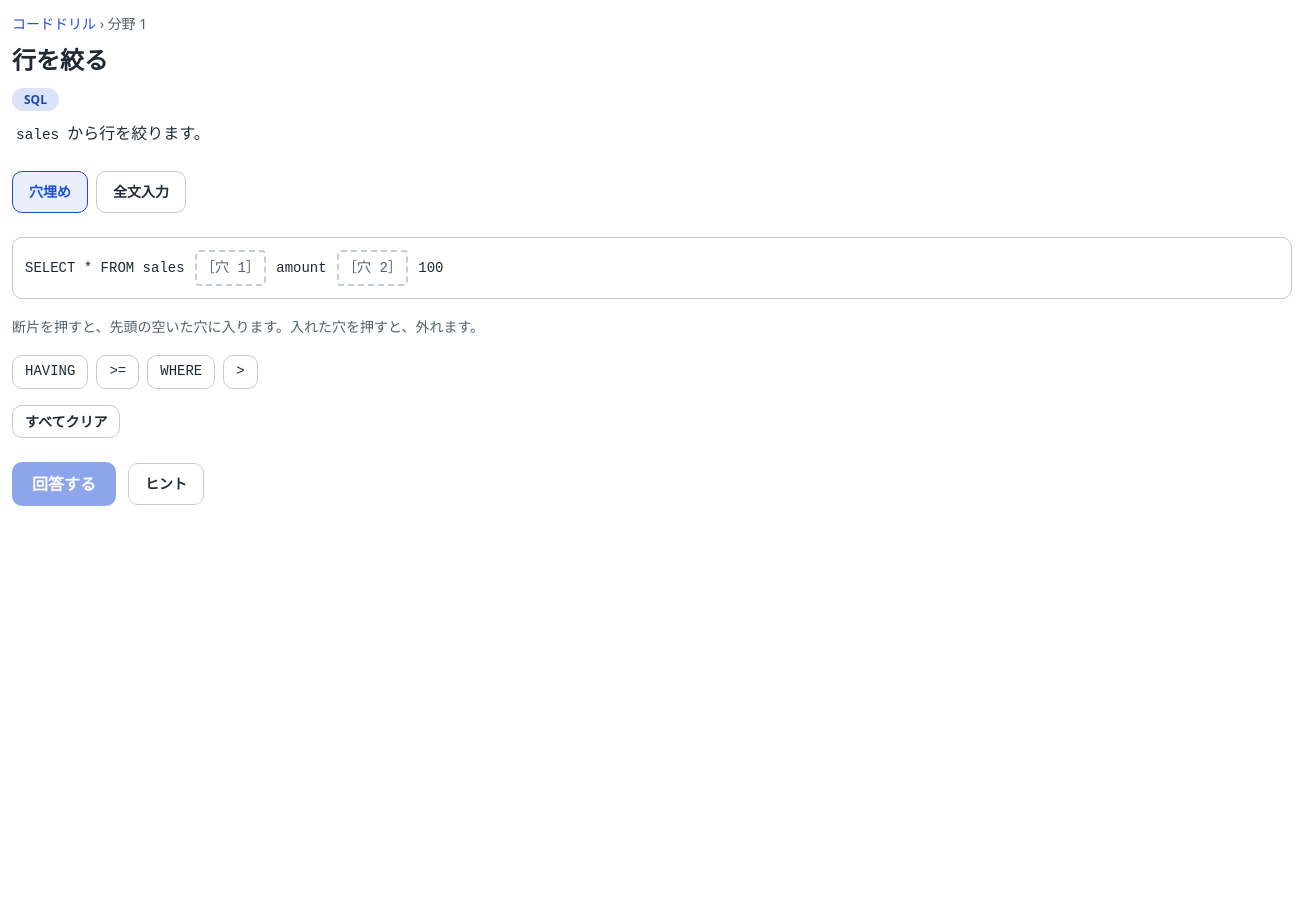
Scenario: CodeDrillPlayer(全文入力) › 一致しない_入力したコードの結果は断定せず_正解のコードと比べるよう伝える
This screenshot has width=1304, height=912.
Click the tab "全文入力" at x=141, y=192, box [96, 171, 186, 213]
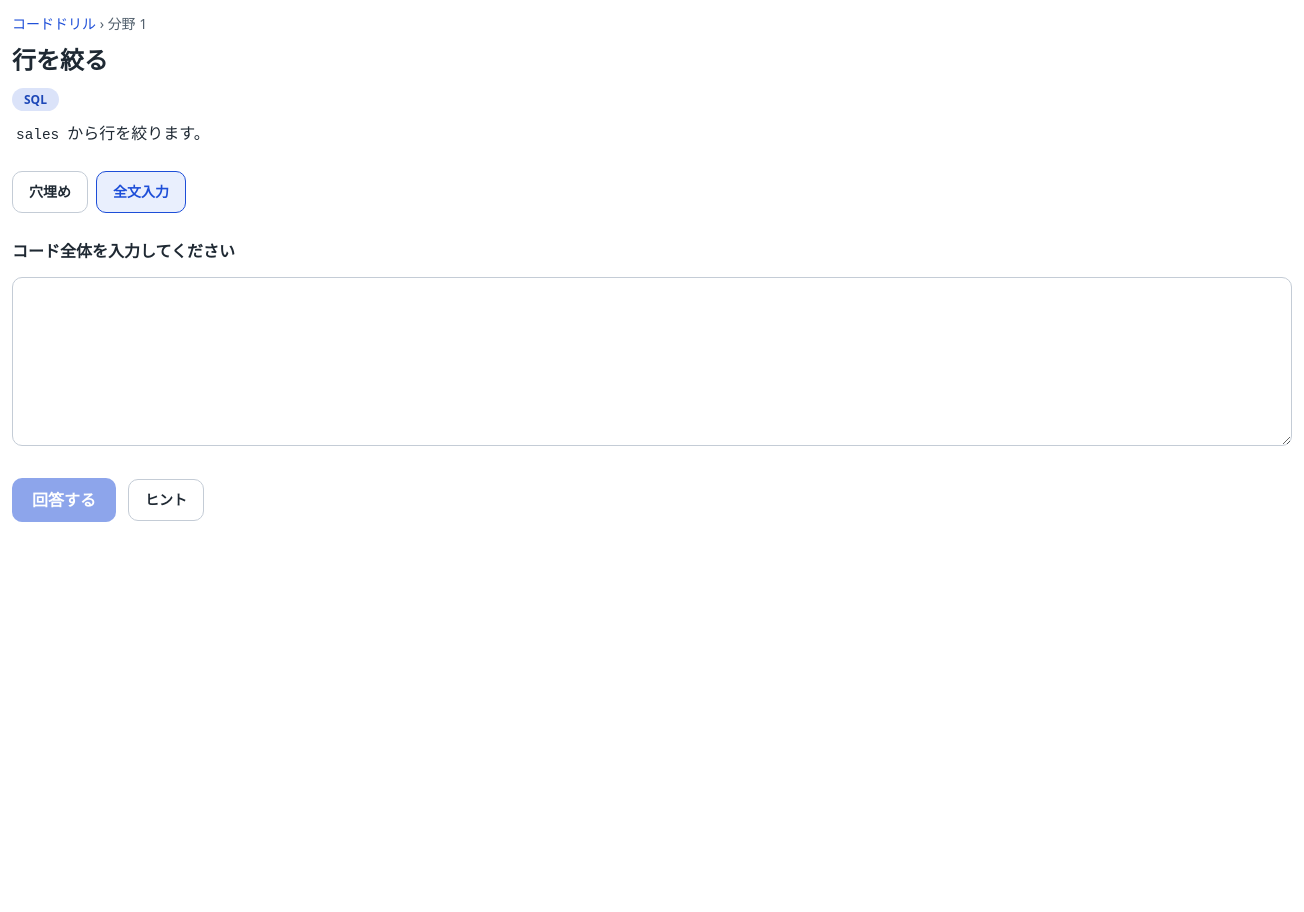
Type "SELECT 1" into the text box labelled "コード全体を入力してください" at x=652, y=361, box [12, 277, 1292, 446]
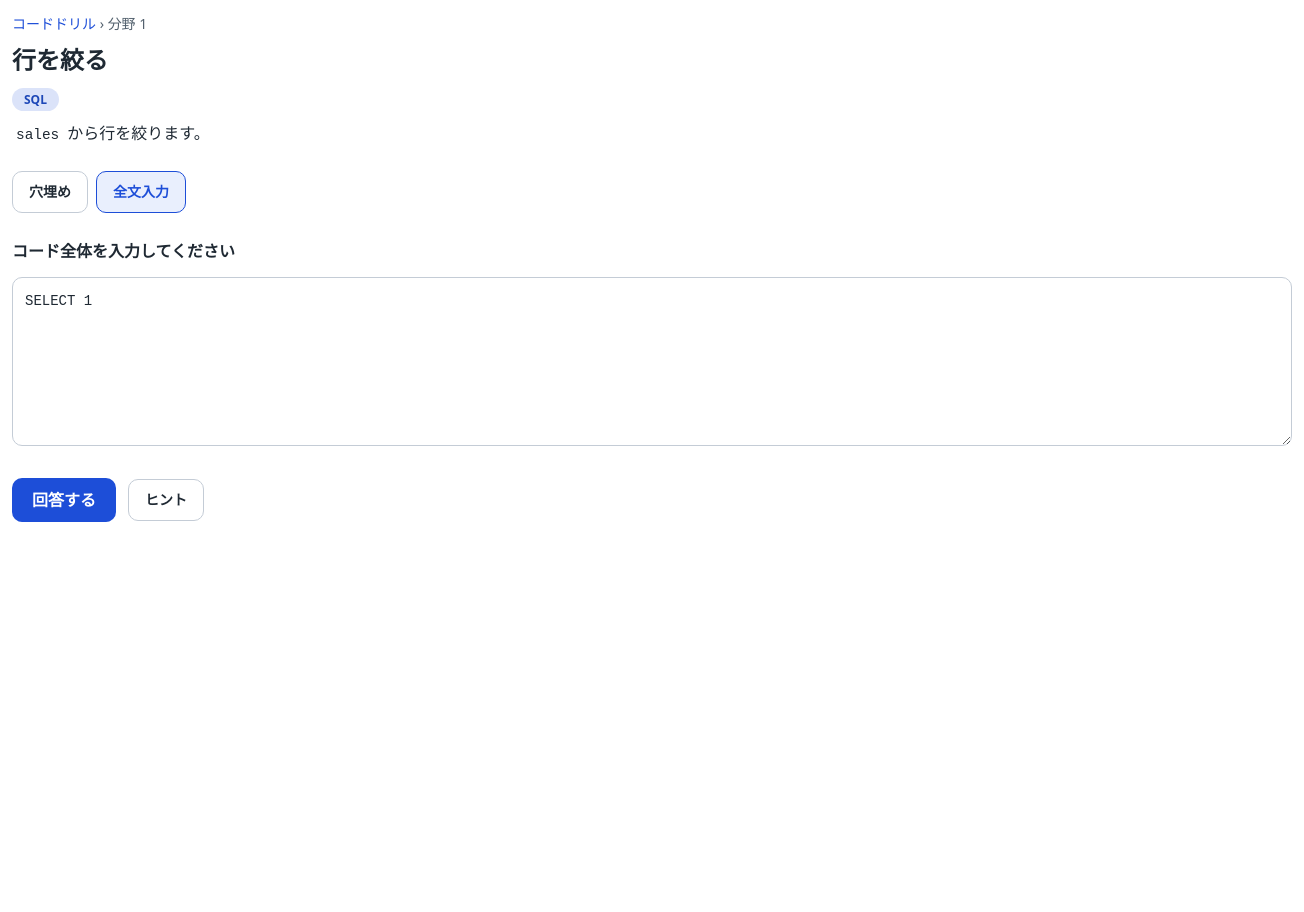
Click the button "回答する" at x=64, y=500, box [12, 478, 116, 522]
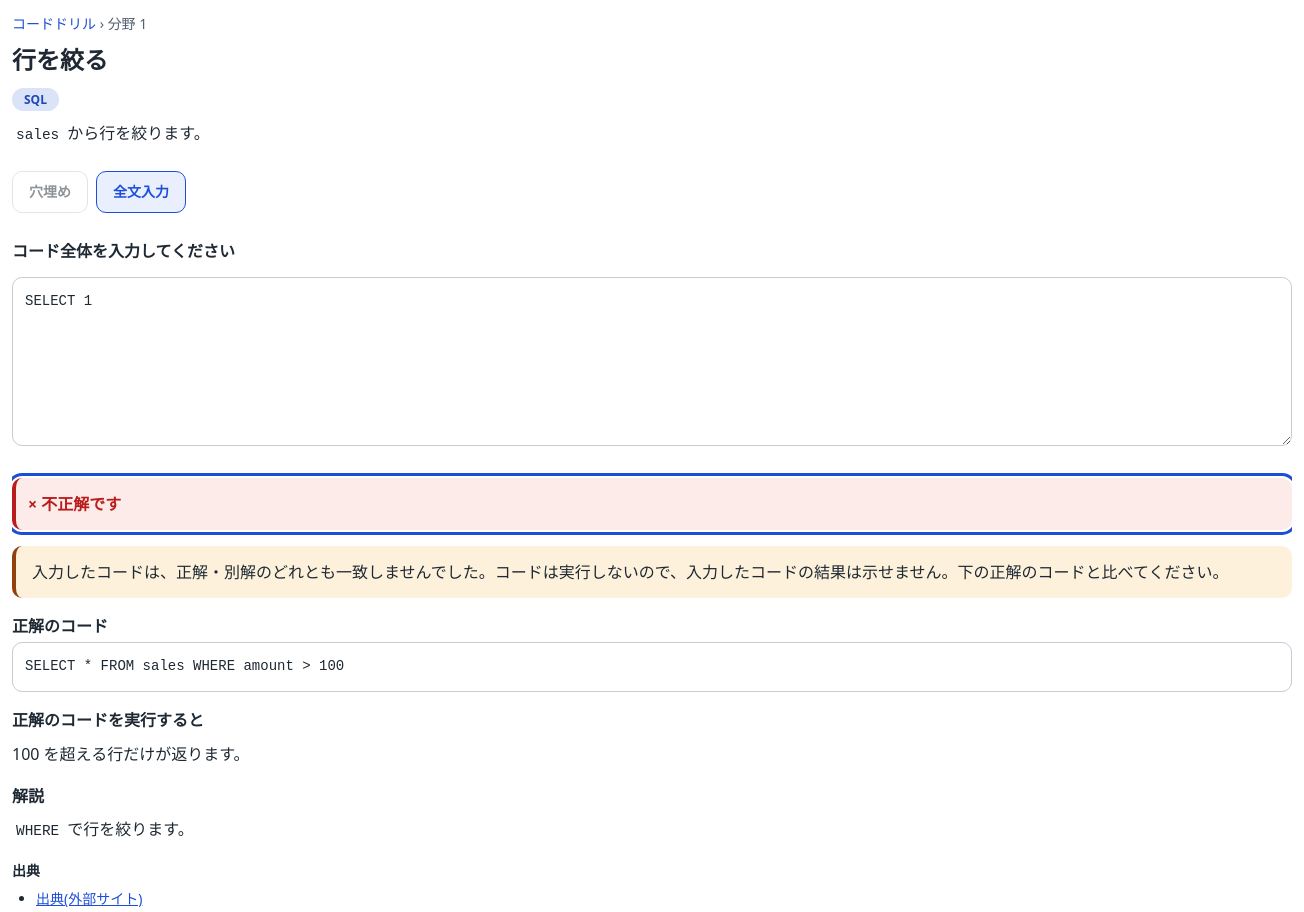
Expected: the message reads "× 不正解です", [28, 493, 121, 515]
Expected: the text "入力したコードの結果は示せません" is shown, [32, 561, 1228, 583]
